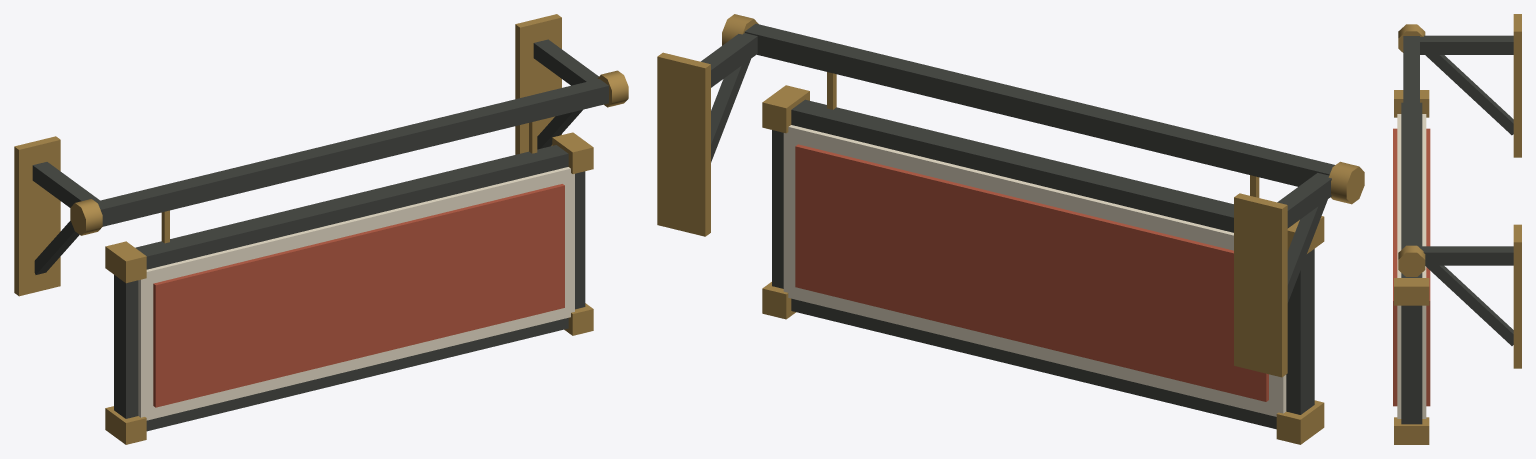
The model's file is sign_wall_2.glb.
The picture shows the model from 3 angles, left to right: view 1: azimuth 30°, elevation 25°; view 2: azimuth 150°, elevation 25°; view 3: azimuth 270°, elevation 25°; orthographic projection. The views are drawn at different scales.
Parts seen in each view (by area): view 1: sign_wall_2; view 2: sign_wall_2; view 3: sign_wall_2.
Part boxes in pixels (<box>): sign_wall_2: <box>14,14,628,444</box>; sign_wall_2: <box>657,14,1364,444</box>; sign_wall_2: <box>1393,14,1521,444</box>.
Bounding box in the file's own units: 2.6 × 1.16 × 0.62.
